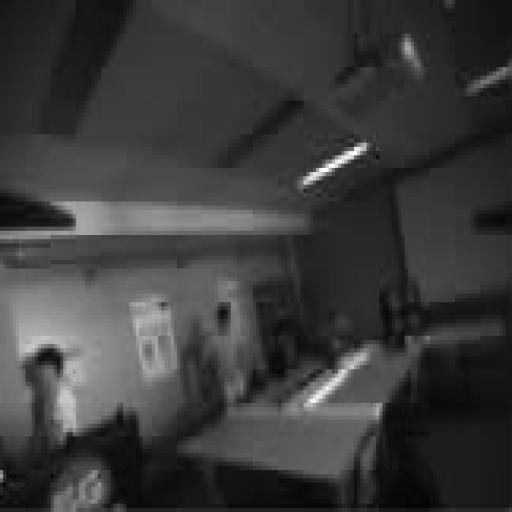human: (199, 298, 252, 406), (29, 345, 79, 457)
